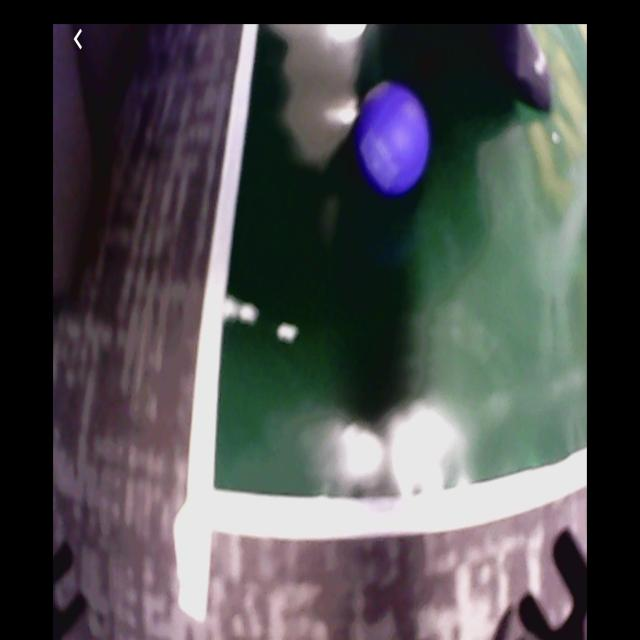ball: (355, 76, 433, 196)
